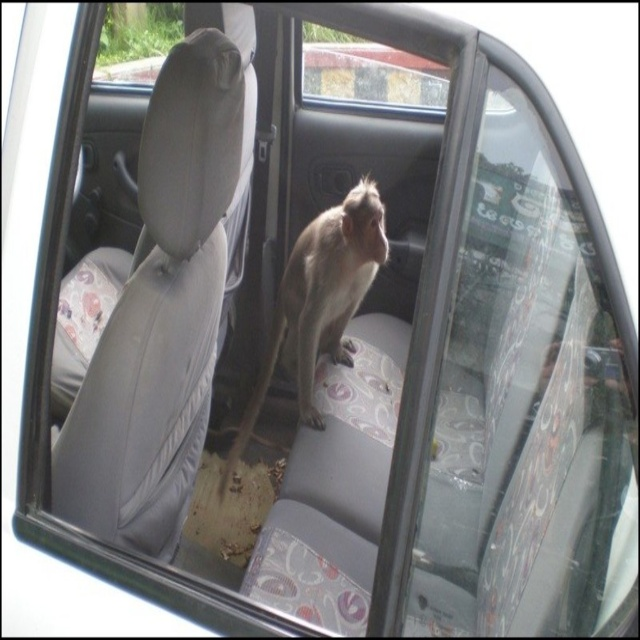Monkey: (218, 177, 389, 507)
